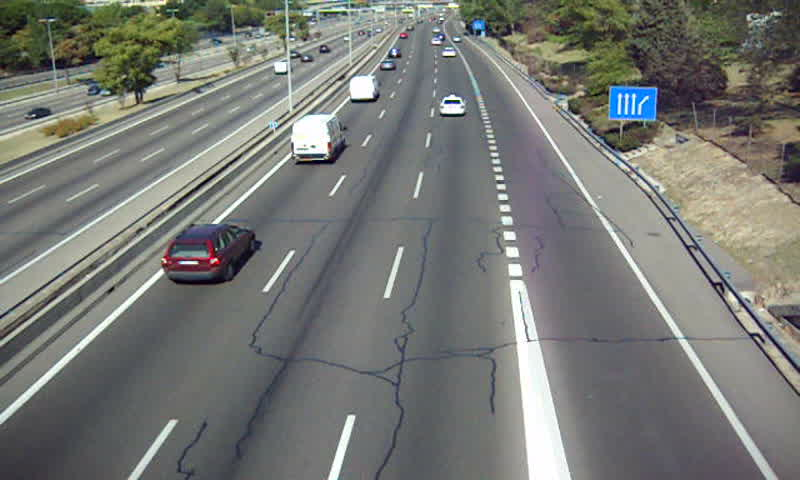car: (161, 224, 256, 286), (439, 96, 465, 116), (380, 59, 396, 71), (441, 47, 457, 58), (389, 47, 402, 59)
van: (290, 114, 346, 162), (349, 75, 380, 99)
